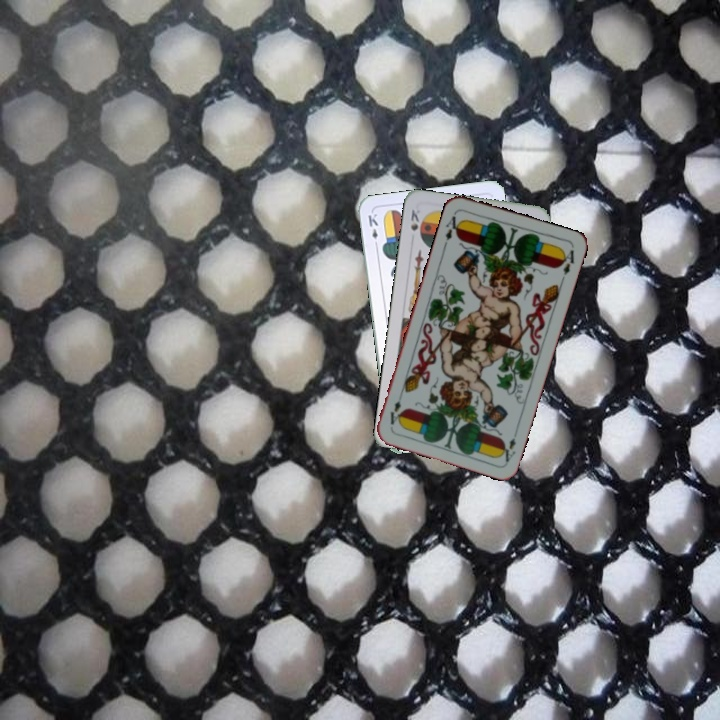EA: (497, 425, 520, 465), (441, 209, 464, 243)
EK: (364, 209, 381, 250)
SK: (406, 205, 422, 233)
